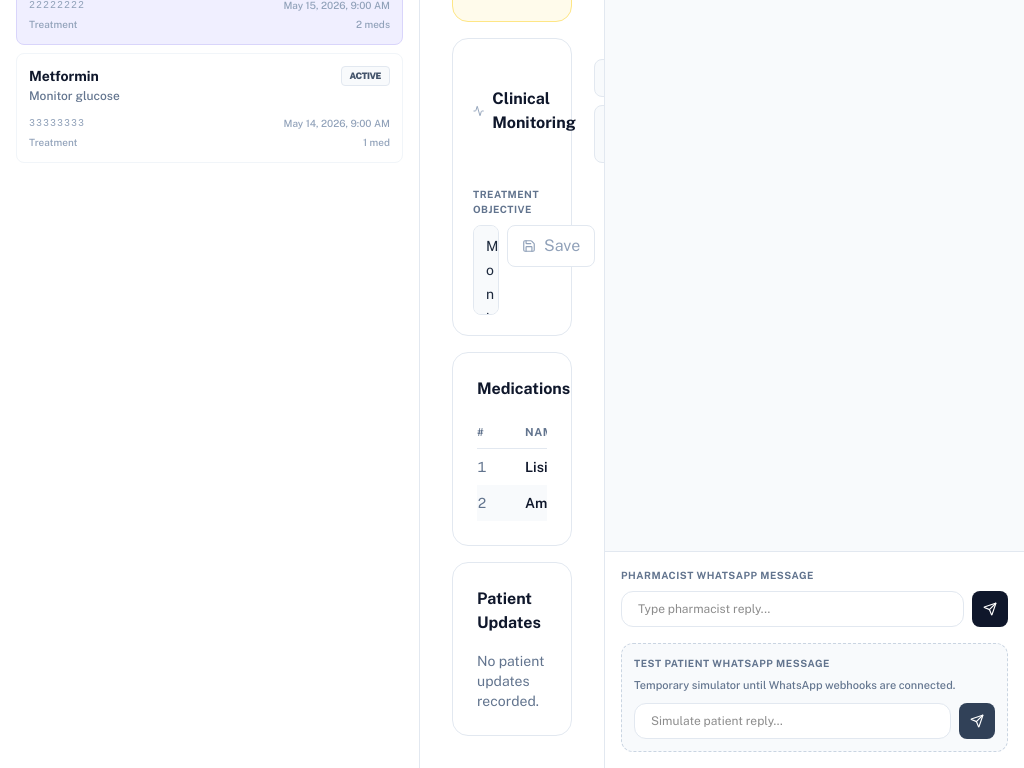
PatientManagementPage › queues a pharmacist WhatsApp message from the chat panel
The image size is (1024, 768).
(page scrolled)
Type "Please continue the current dose." into the field labelled "Pharmacist WhatsApp Message".
click(792, 609); type("Please continue the current dose.")  # box [621, 591, 964, 627]
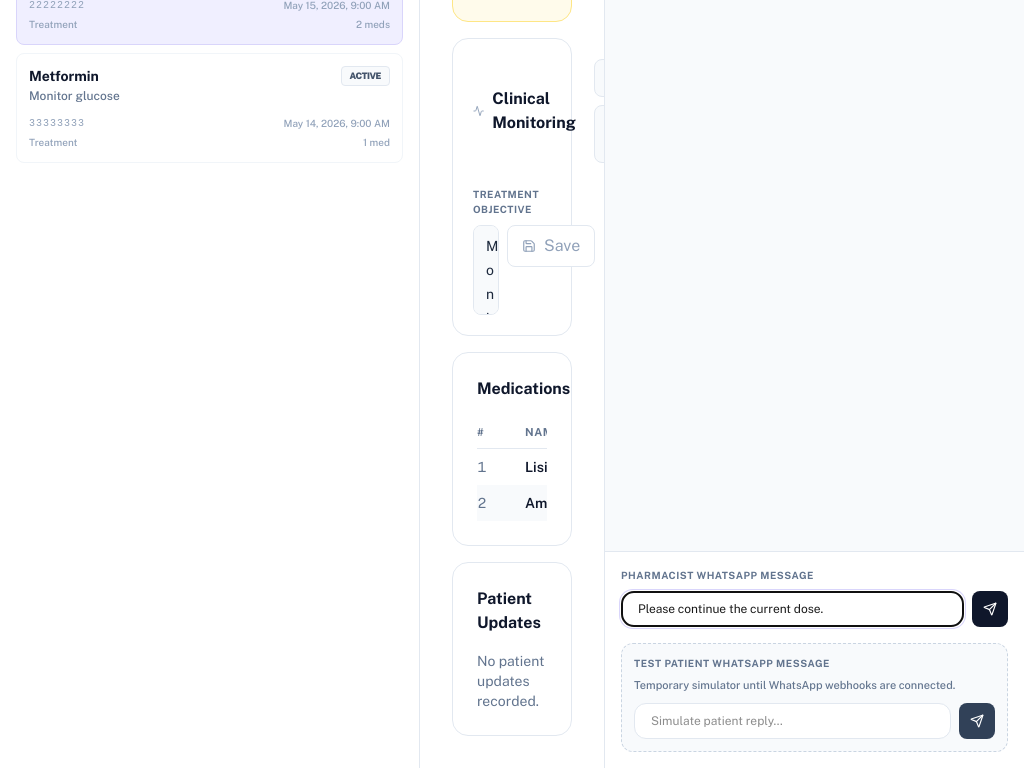
Click the button named "send pharmacist message".
click(990, 609)  # box [972, 591, 1008, 627]
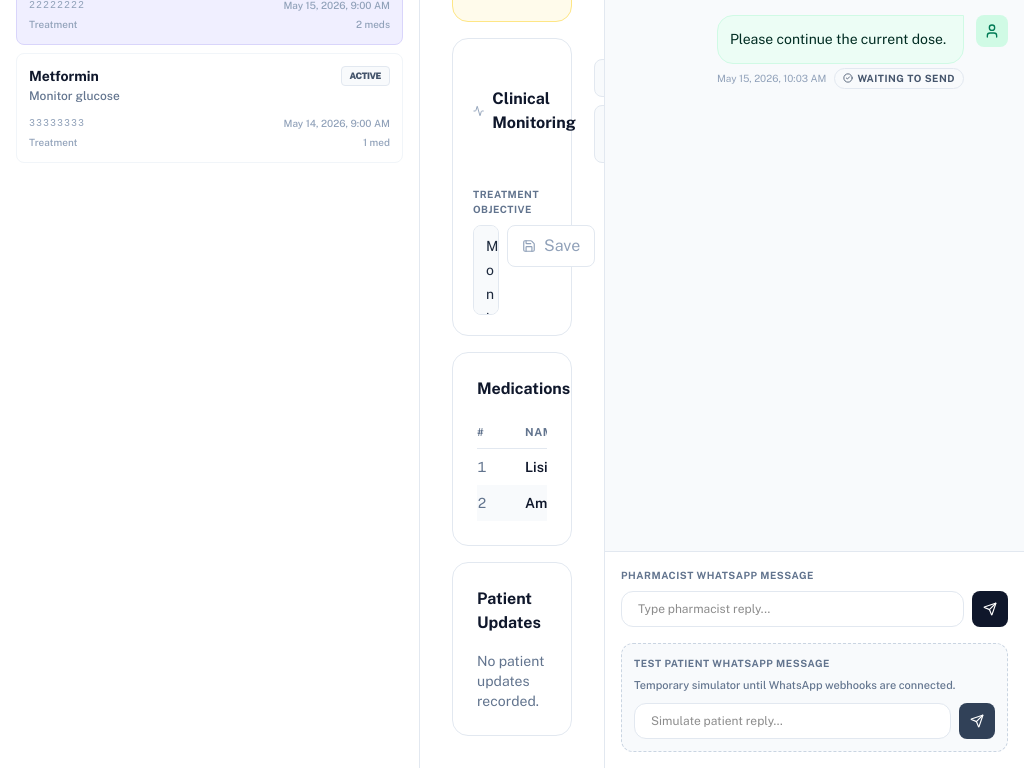
Now the text "Waiting to send" is shown, box [834, 68, 964, 88]
